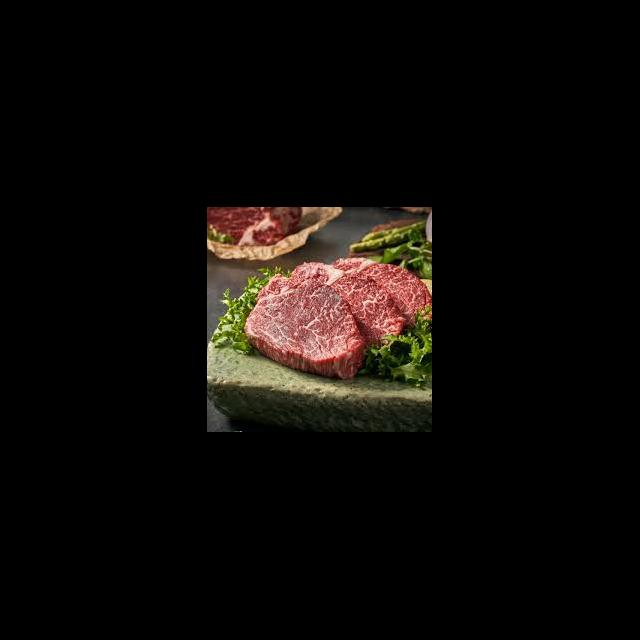beef: (257, 274, 363, 377), (303, 261, 428, 328)
